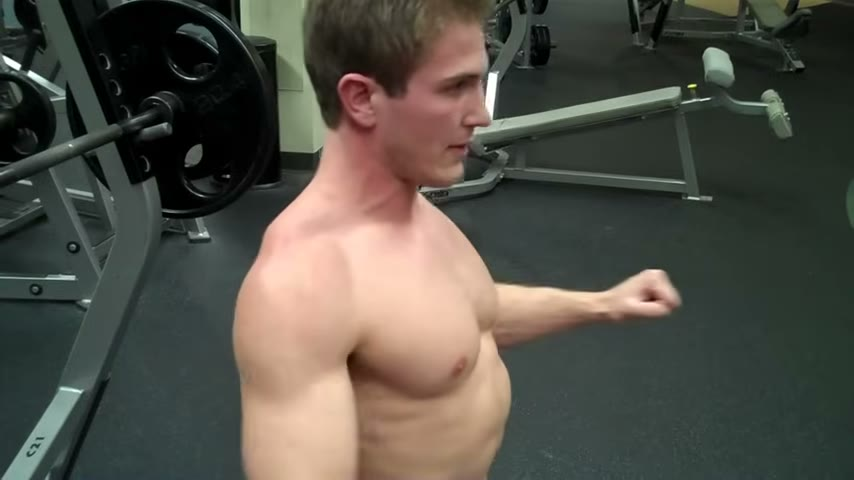barbell_plate_side: (165, 0, 294, 394)
